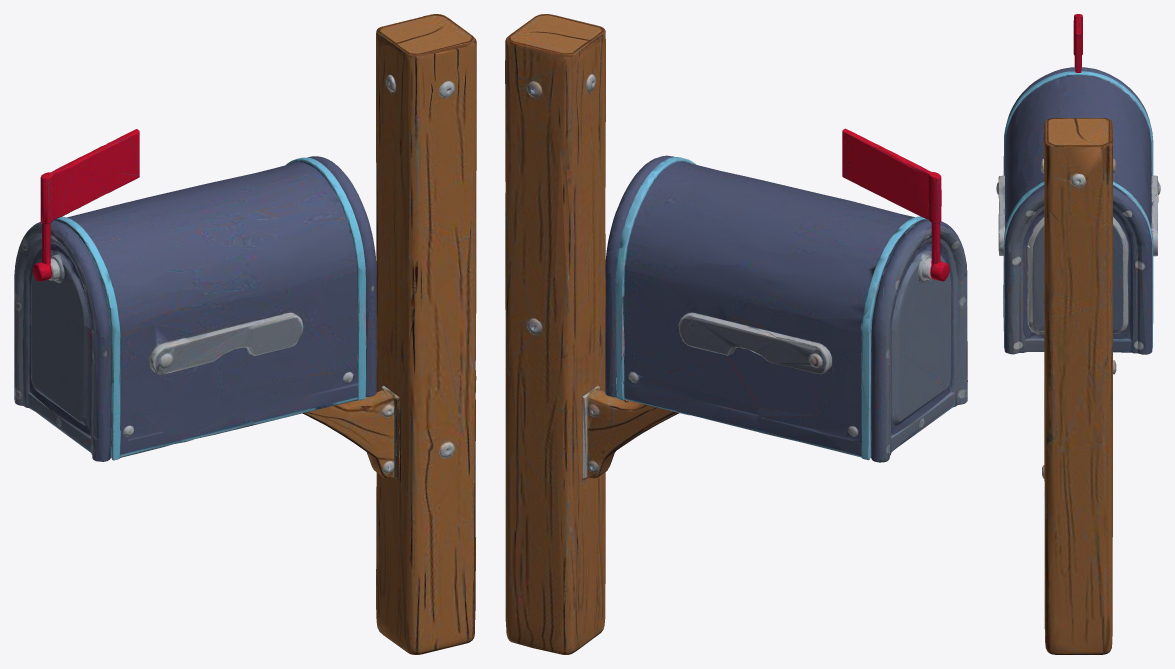
Rendered from mailbox.glb.
The picture shows the model from 3 angles, left to right: view 1: azimuth 30°, elevation 25°; view 2: azimuth 150°, elevation 25°; view 3: azimuth 270°, elevation 25°; orthographic projection. The views are drawn at different scales.
Size of the model in its own units: 1.42 by 1.9 by 0.5544.
Materials: 1 (1 with a texture image).
